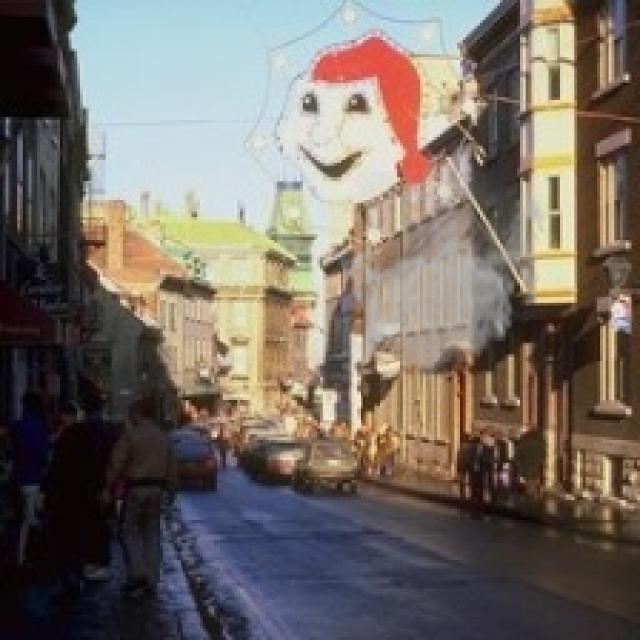smoke: (343, 171, 551, 383)
